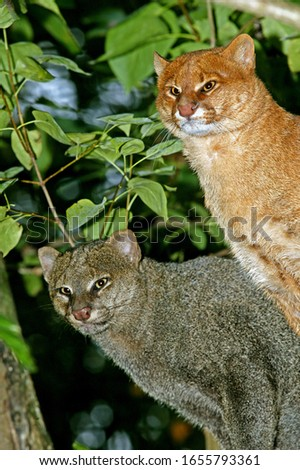Jaguarundi: (24, 223, 295, 443), (133, 31, 294, 248)
